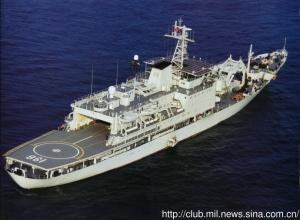warship: (2, 15, 284, 186)
